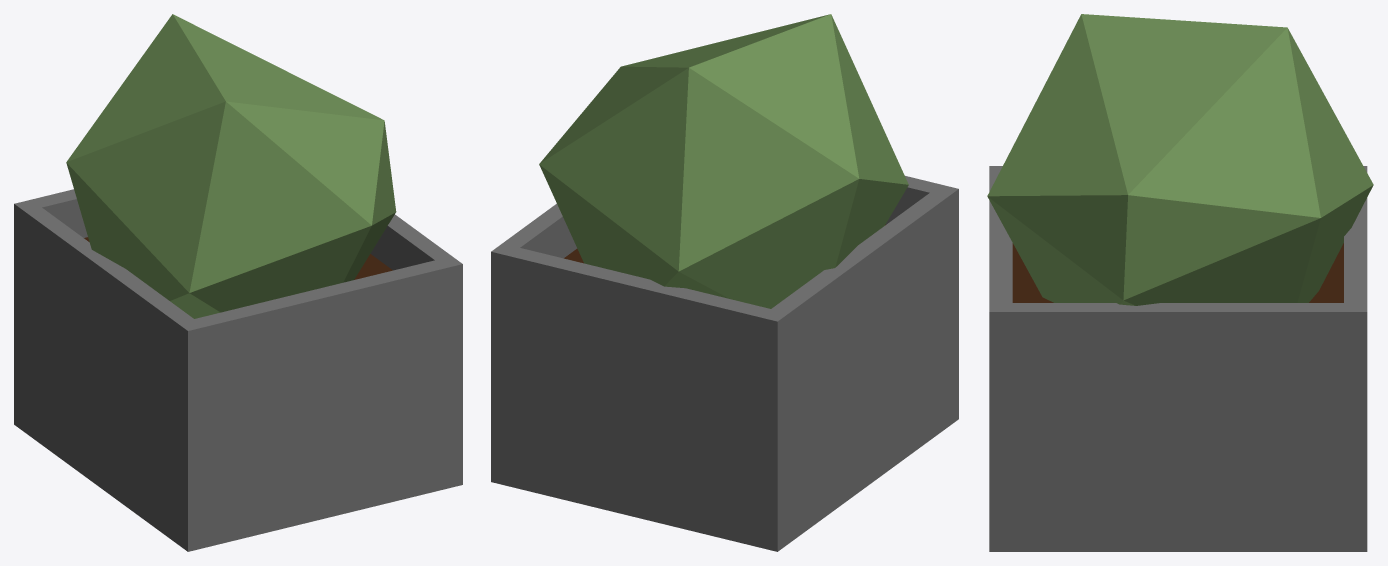
The model's file is VasePlantV2.fbx.
The picture shows the model from 3 angles, left to right: view 1: azimuth 30°, elevation 25°; view 2: azimuth 150°, elevation 25°; view 3: azimuth 270°, elevation 25°; orthographic projection. The views are drawn at different scales.
Parts seen in each view (by area): view 1: Cube, Icosphere.001; view 2: Cube, Icosphere.001; view 3: Cube, Icosphere.001.
Boxes of the visible parts, x1,y1,x2,y2 form: Cube: [14, 189, 462, 551]; Icosphere.001: [66, 14, 396, 318]; Cube: [491, 176, 958, 551]; Icosphere.001: [539, 14, 908, 308]; Cube: [989, 166, 1367, 551]; Icosphere.001: [987, 14, 1373, 305].
Bounding box in the file's own units: 42.96 × 58.15 × 45.94.
